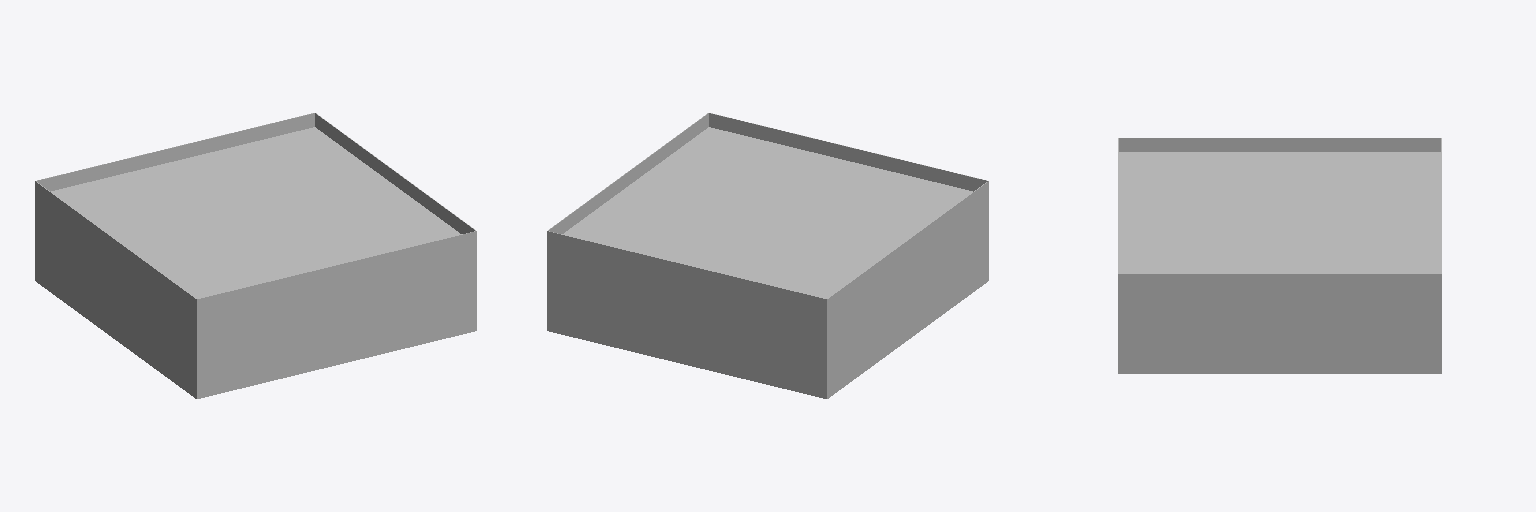
The model's file is building.obj.
The picture shows the model from 3 angles: view 1: azimuth 30°, elevation 25°; view 2: azimuth 150°, elevation 25°; view 3: azimuth 270°, elevation 25°; orthographic projection.
Visible parts, largest first — view 1: Cube; view 2: Cube; view 3: Cube.
Boxes of the visible parts, box(x1,y1,x2,y2) form: Cube: box(35, 113, 476, 398); Cube: box(547, 113, 988, 398); Cube: box(1118, 138, 1441, 373).
Bounding box in the file's own units: 42 × 14.3 × 42.